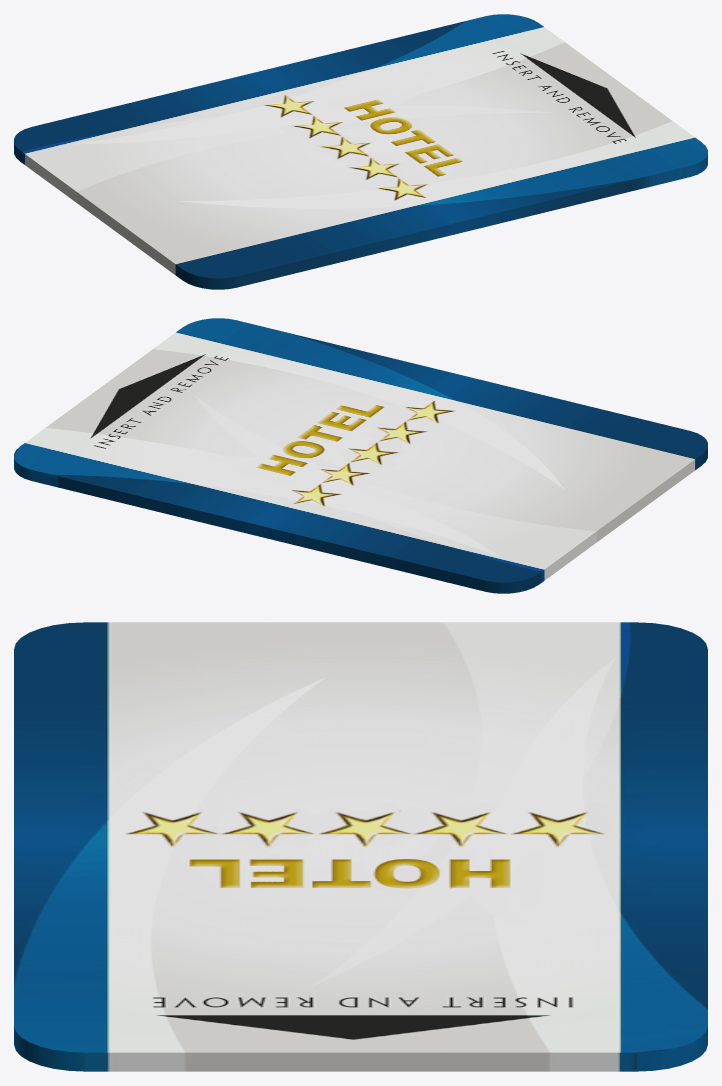
File: Hotel card.FBX
The picture shows the model from 3 angles, top to bottom: view 1: azimuth 30°, elevation 25°; view 2: azimuth 150°, elevation 25°; view 3: azimuth 270°, elevation 25°; orthographic projection. The views are drawn at different scales.
Visible parts, largest first — view 1: Hotel card; view 2: Hotel card; view 3: Hotel card.
Boxes of the visible parts, <box> form: Hotel card: <box>14,14,707,289</box>; Hotel card: <box>14,318,707,593</box>; Hotel card: <box>14,622,707,1071</box>.
Size of the model in its own units: 9.09 by 0.1873 by 6.2.
1 material, 1 textured.
